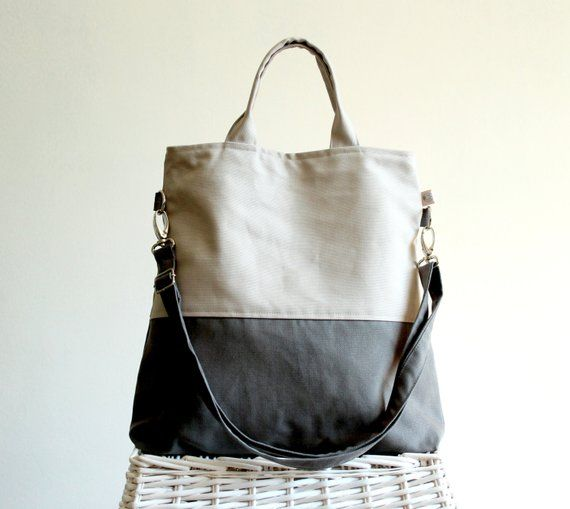nylon: (129, 35, 446, 470)
